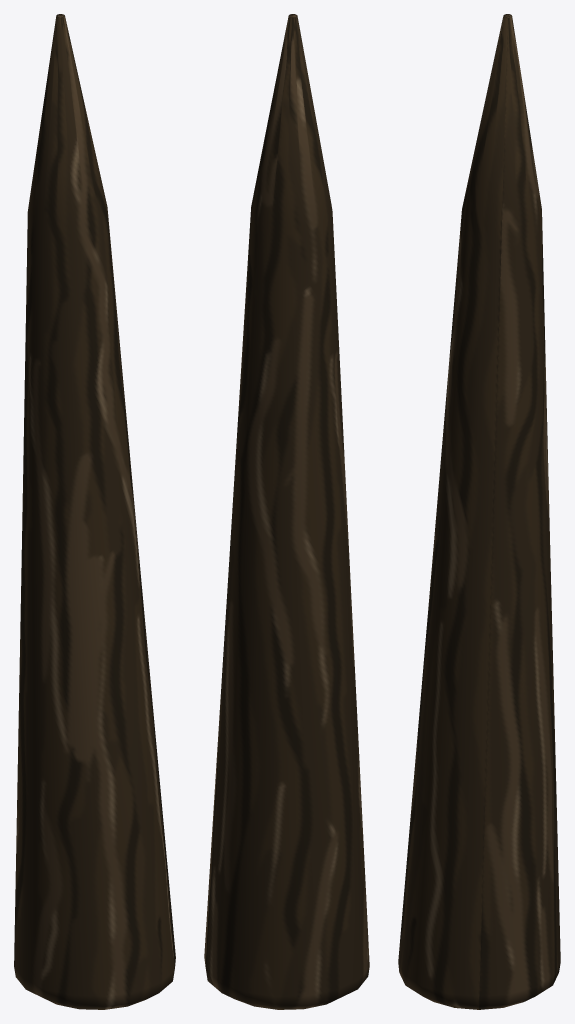
File: SpruceTree1_Log3_v1.fbx
3 views of the same model, side by side, from view 1: azimuth 30°, elevation 25°; view 2: azimuth 150°, elevation 25°; view 3: azimuth 270°, elevation 25° (orthographic). The views are drawn at different scales.
Parts seen in each view (by area): view 1: ChoppedOfTree.004; view 2: ChoppedOfTree.004; view 3: ChoppedOfTree.004.
Boxes of the visible parts, x1,y1,x2,y2 form: ChoppedOfTree.004: (14,14,175,1009); ChoppedOfTree.004: (204,14,369,1009); ChoppedOfTree.004: (398,14,560,1009).
Bounding box in the file's own units: 68.43 × 445 × 68.43.
